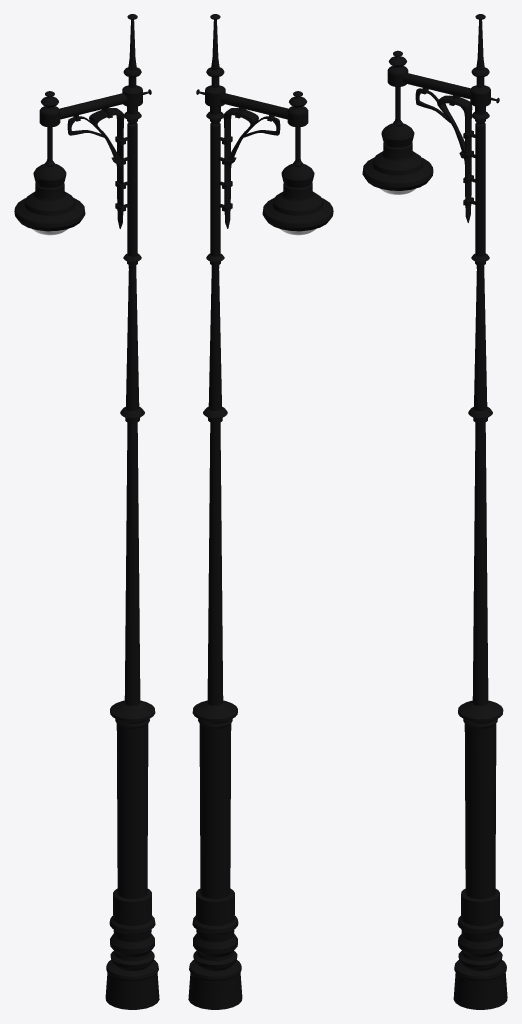
File: street_lamp.glb
The picture shows the model from 3 angles, left to right: view 1: azimuth 30°, elevation 25°; view 2: azimuth 150°, elevation 25°; view 3: azimuth 330°, elevation 25°; orthographic projection.
Parts seen in each view (by area): view 1: polySurface12; view 2: polySurface12; view 3: polySurface12.
Part boxes in pixels (box(x1,y1,x2,y2)): polySurface12: box(14, 14, 159, 1009); polySurface12: box(188, 14, 333, 1009); polySurface12: box(362, 14, 507, 1009).
Size of the model in its own units: 7.11 by 48.78 by 3.21.
Materials: 2 (1 with a texture image).
